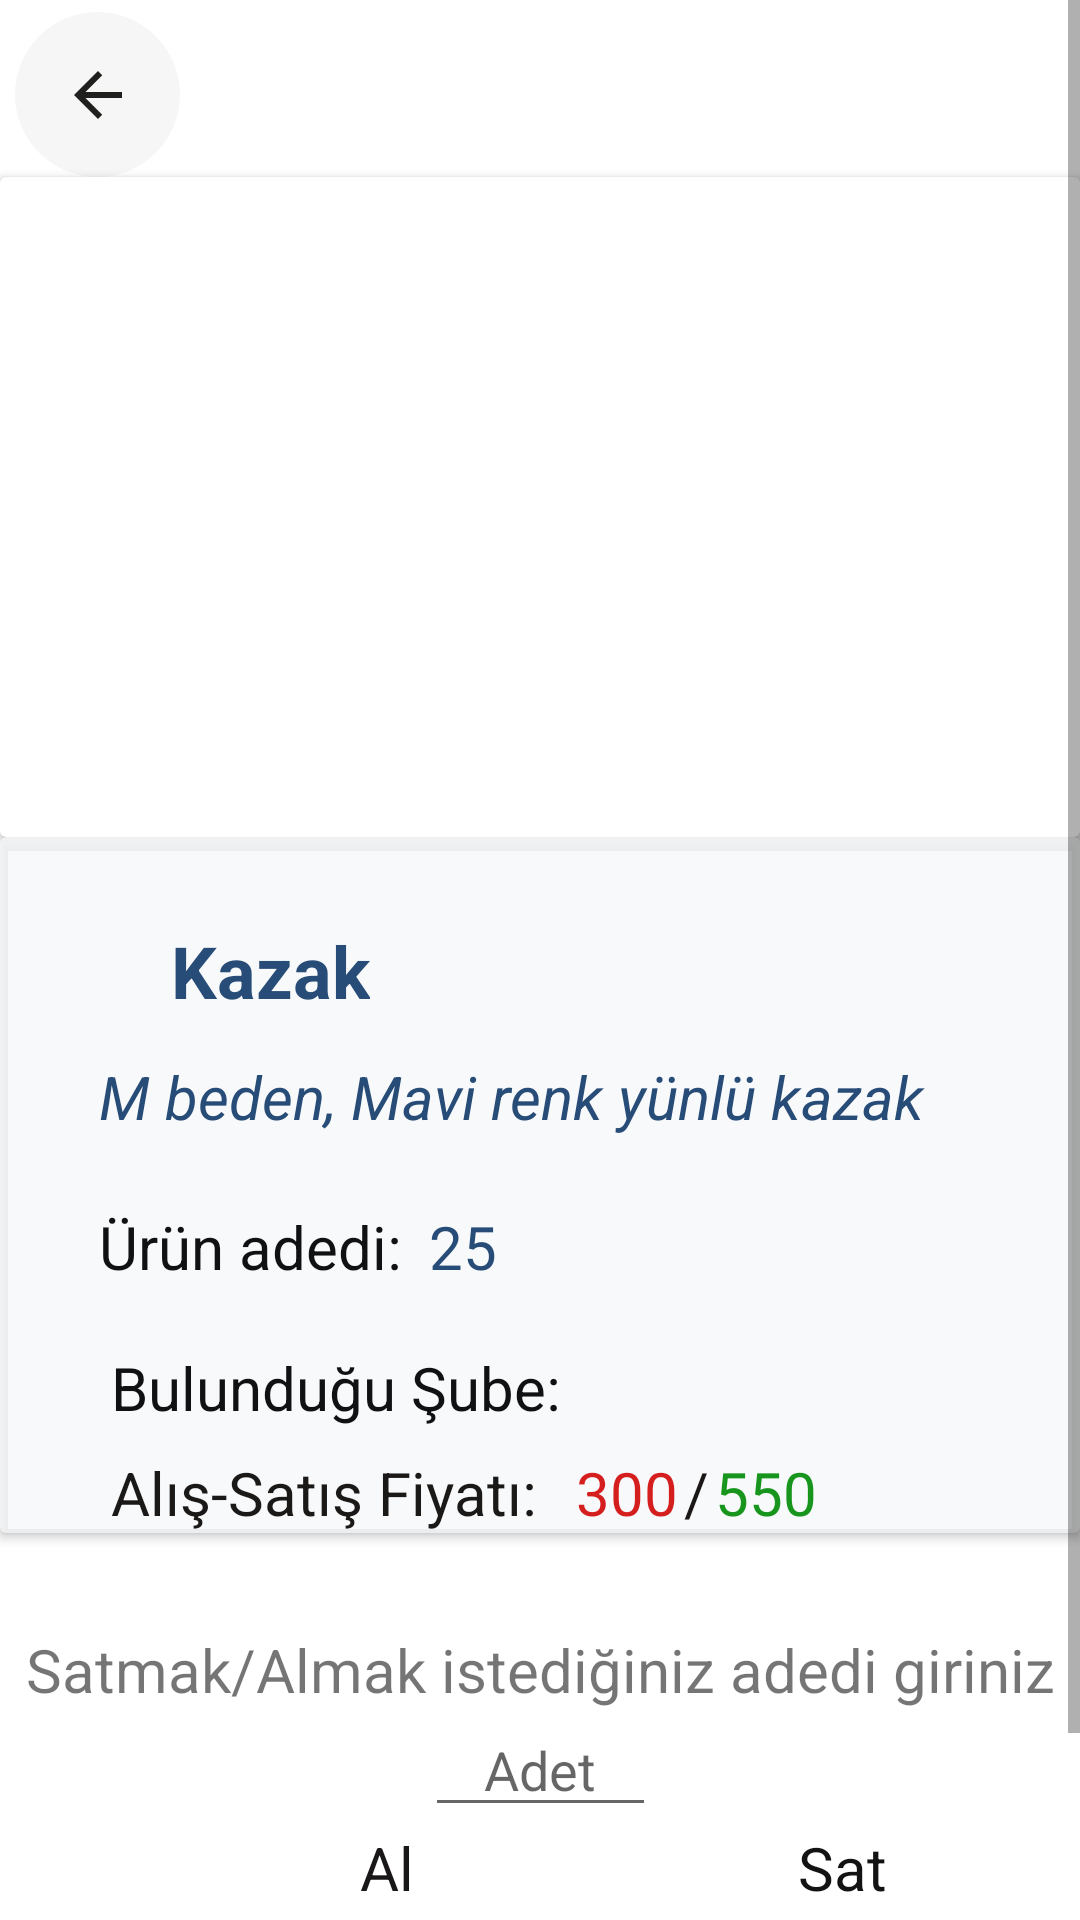

Screen size 1080 x 1920. Icon name, then its box in pixels as (x1, y1, x2, y2):
arrow back: (15, 12, 180, 177)
